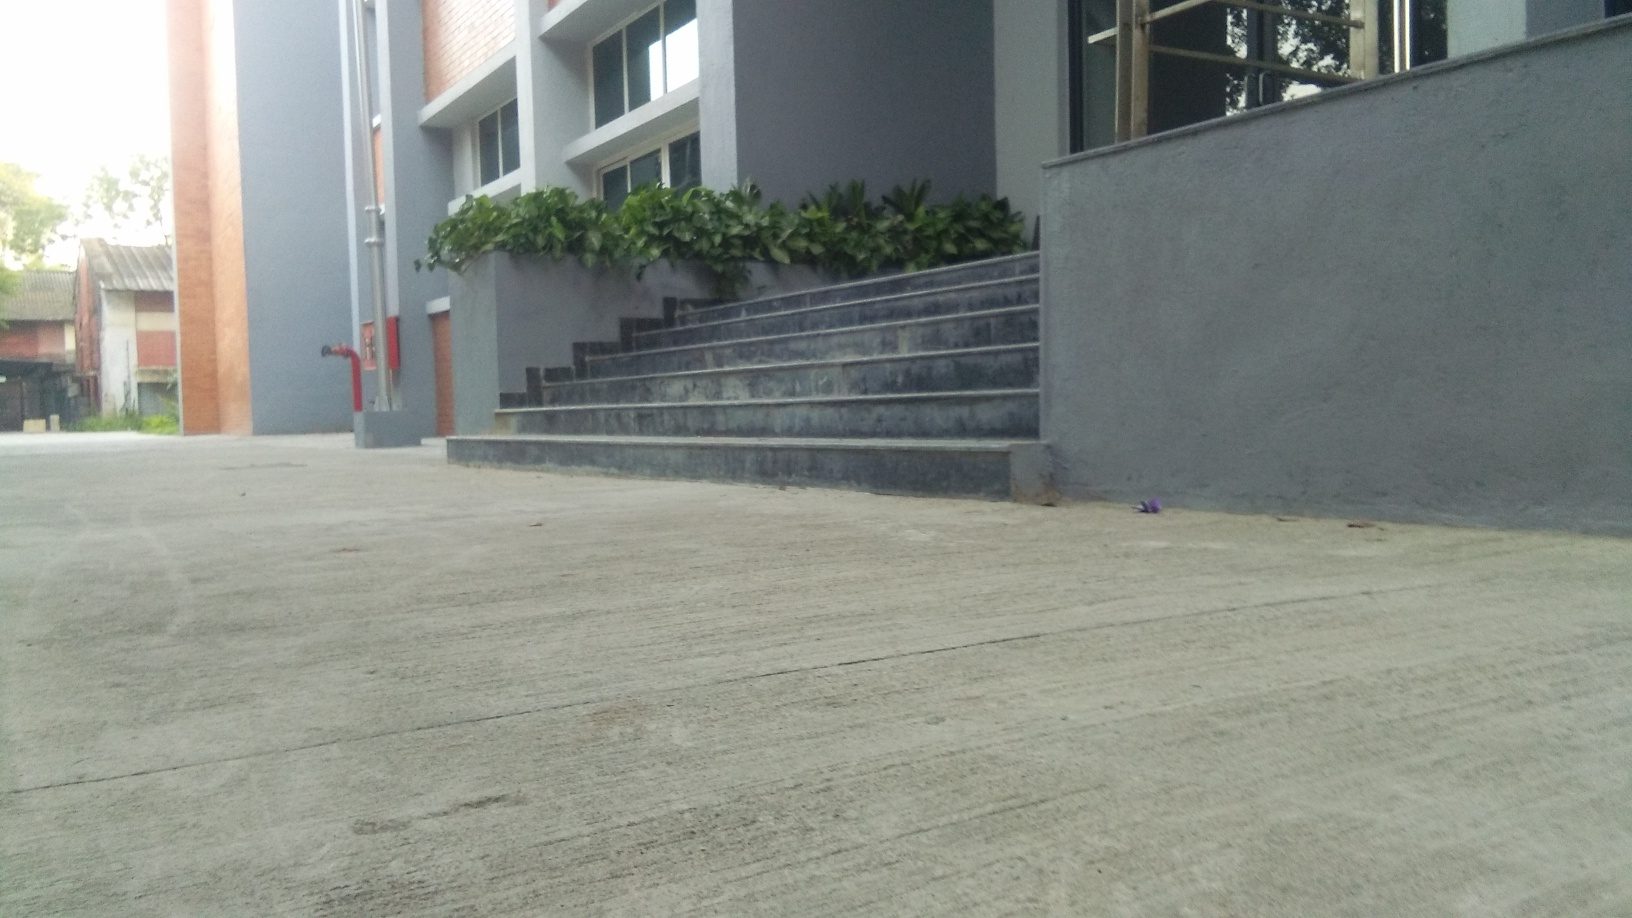stairs_up: (460, 249, 1044, 486)
